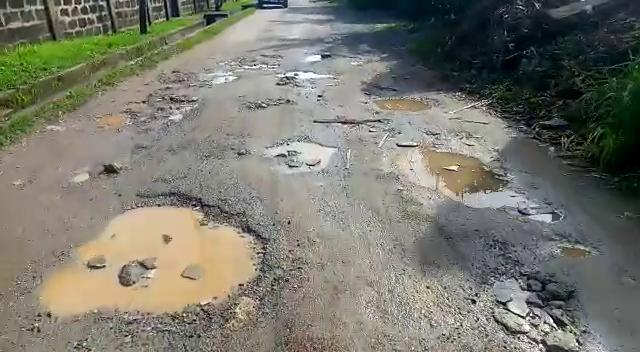pothole: (36, 191, 275, 321), (393, 135, 506, 199), (96, 95, 200, 130), (269, 137, 331, 171), (457, 188, 538, 210), (544, 234, 599, 262), (314, 117, 397, 135), (370, 93, 437, 113), (276, 67, 336, 82), (194, 69, 241, 86), (521, 209, 568, 225), (243, 97, 295, 111)
